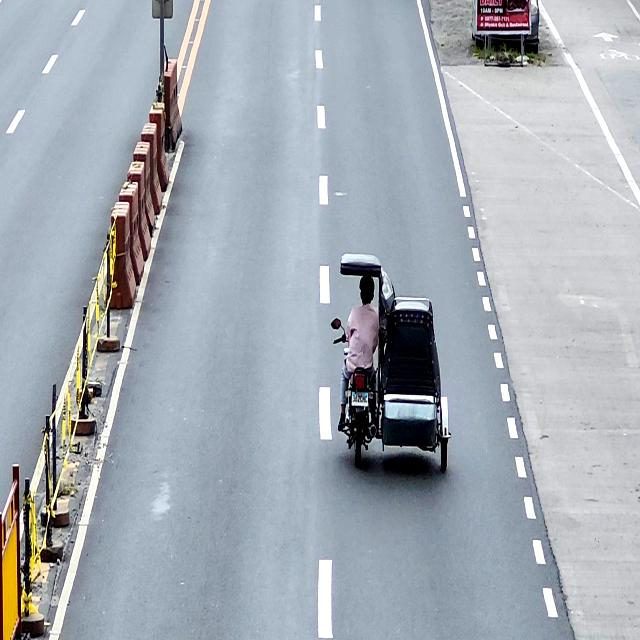License-Plate: (351, 392, 369, 407)
Tricycle: (330, 254, 452, 474)
